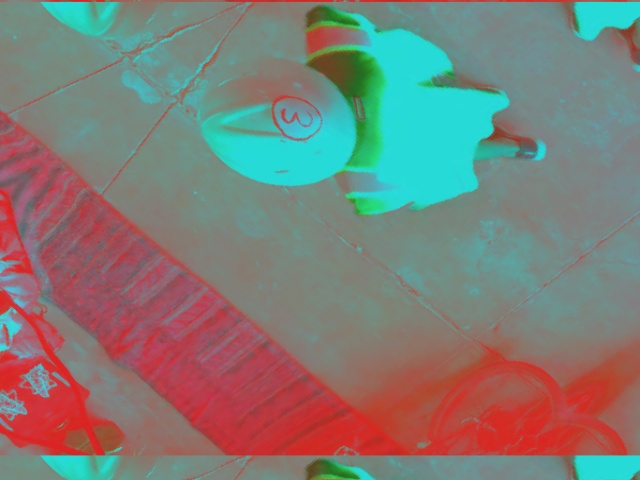three: (257, 87, 333, 149)
